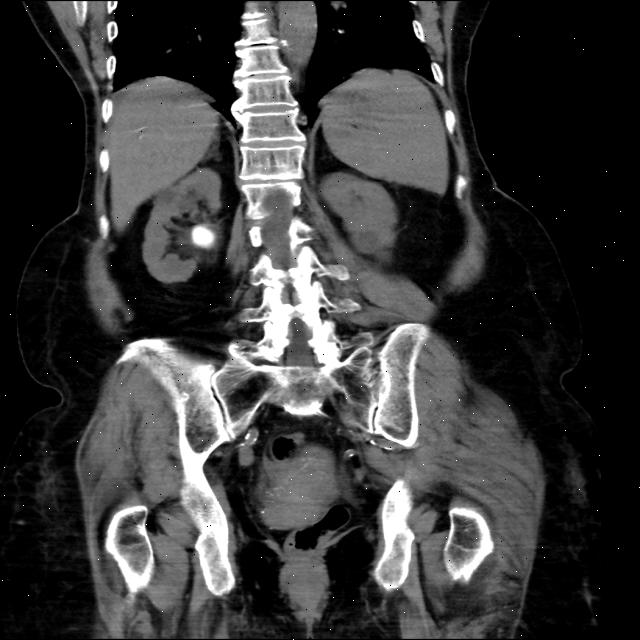kidneystone: (192, 225, 215, 247)
